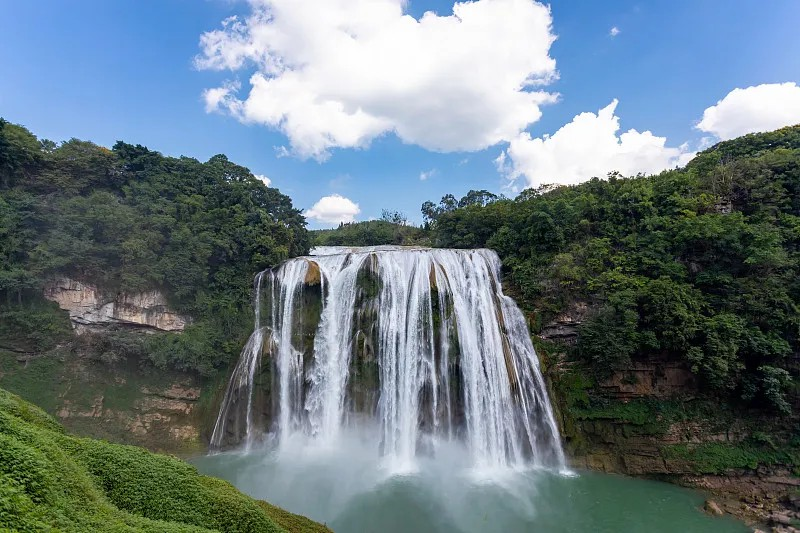Huangguoshu: (218, 247, 577, 479)
